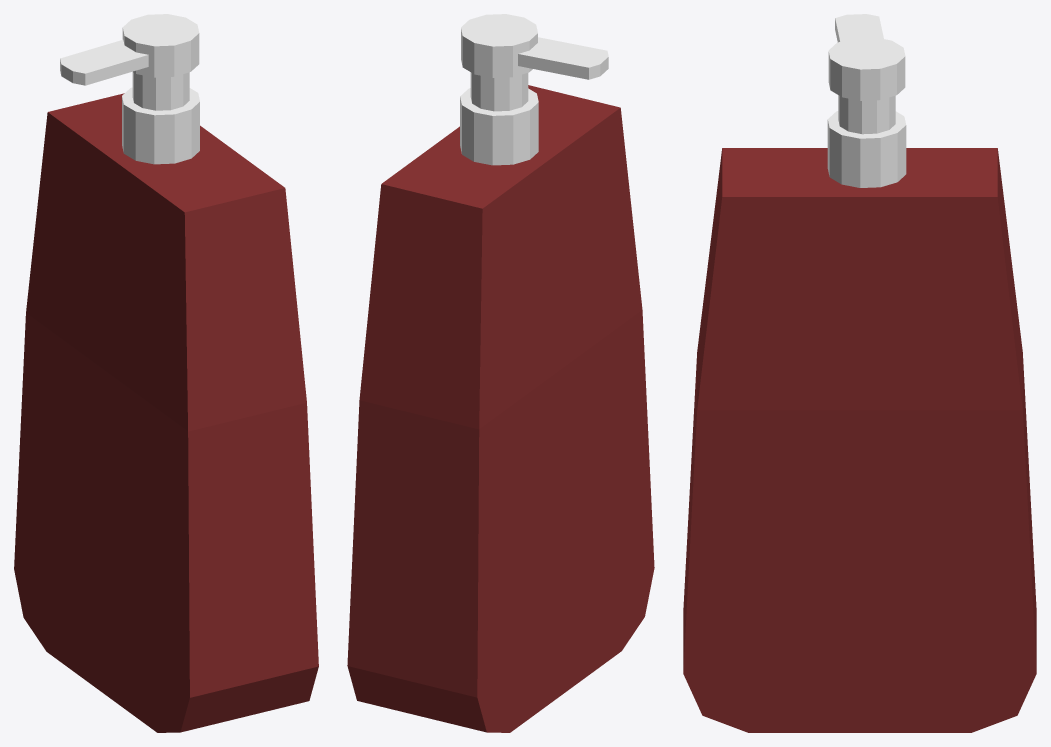
The model's file is Fluid Soap_2.fbx.
The picture shows the model from 3 angles, left to right: view 1: azimuth 30°, elevation 25°; view 2: azimuth 150°, elevation 25°; view 3: azimuth 270°, elevation 25°; orthographic projection.
Visible parts, largest first — view 1: Fluid Soap_2; view 2: Fluid Soap_2; view 3: Fluid Soap_2.
Boxes of the visible parts, x1,y1,x2,y2 form: Fluid Soap_2: (14,14,318,732); Fluid Soap_2: (347,14,654,732); Fluid Soap_2: (683,14,1036,732).
Size of the model in its own units: 0.0357 by 0.1322 by 0.0654.
